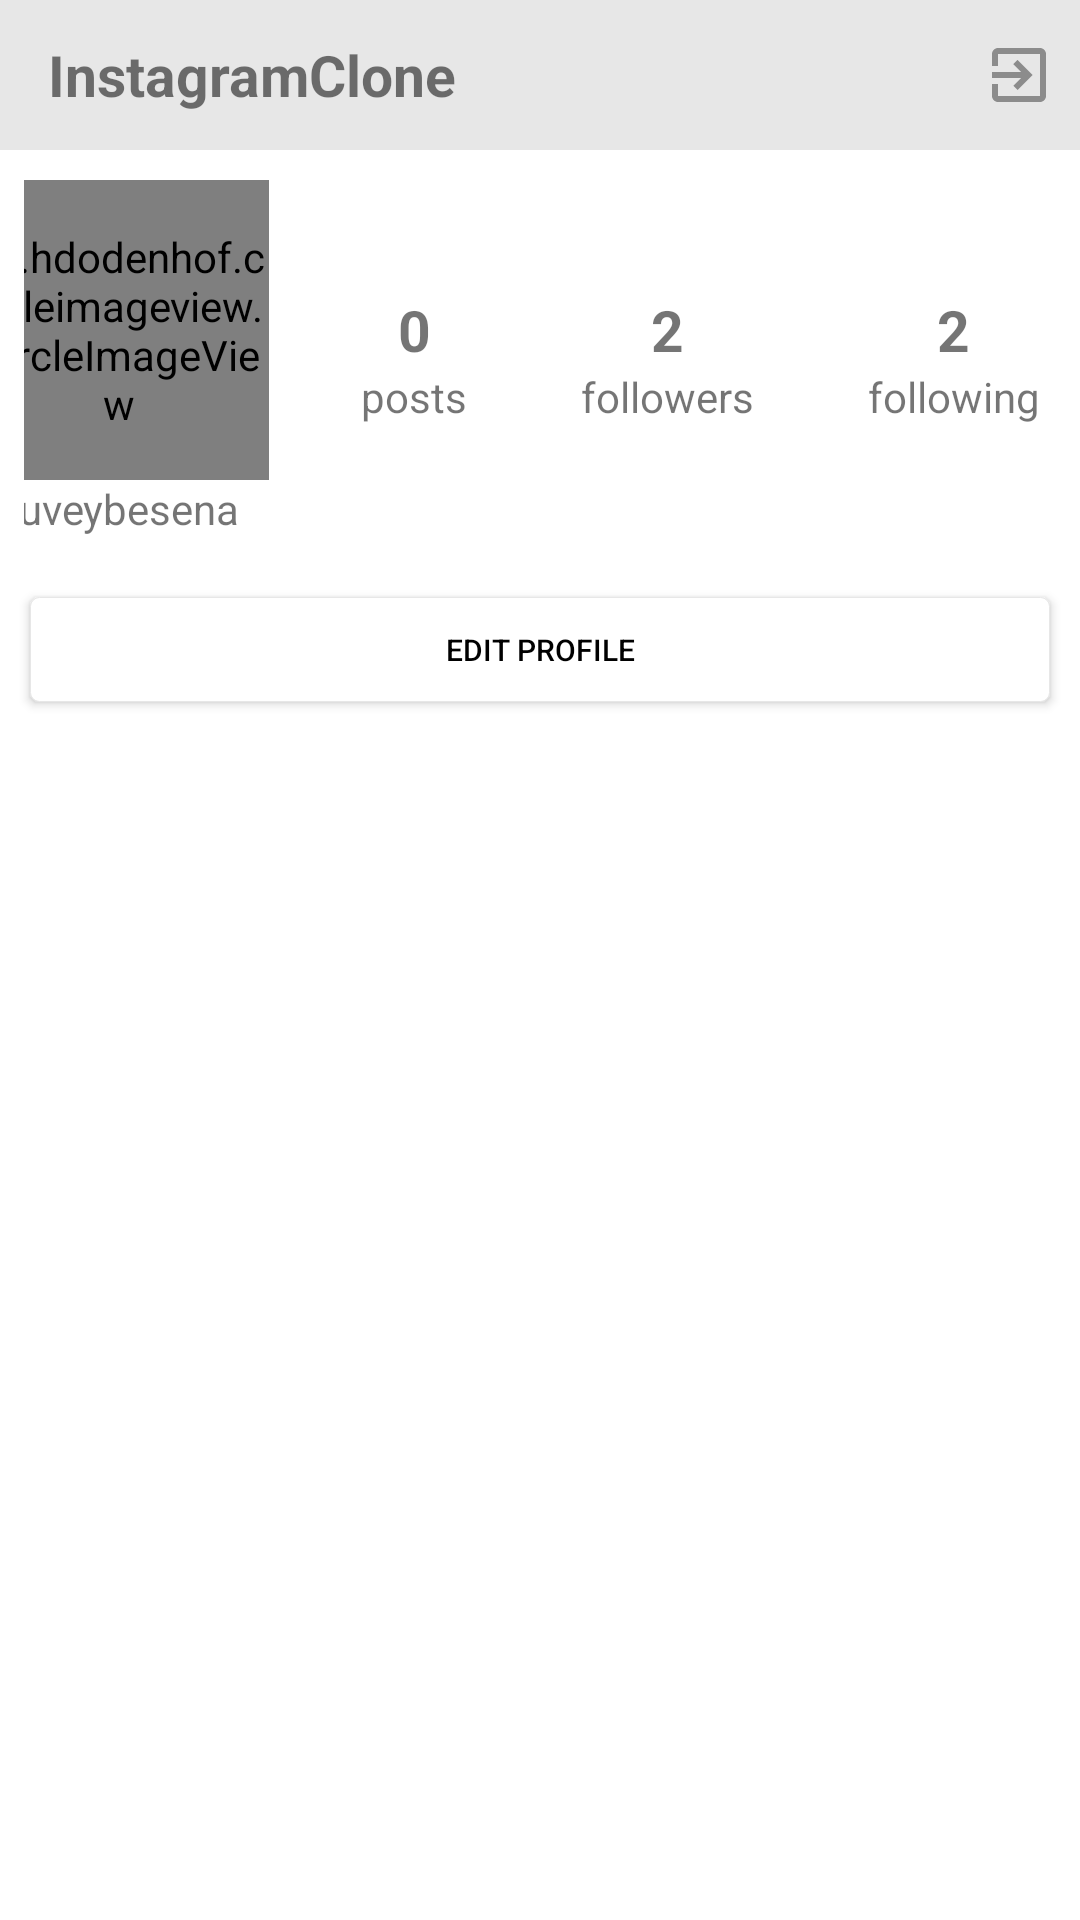

Named icons in this screenshot (1080px×1920px) and their centers, (x,y):
exit: (1019,75)
